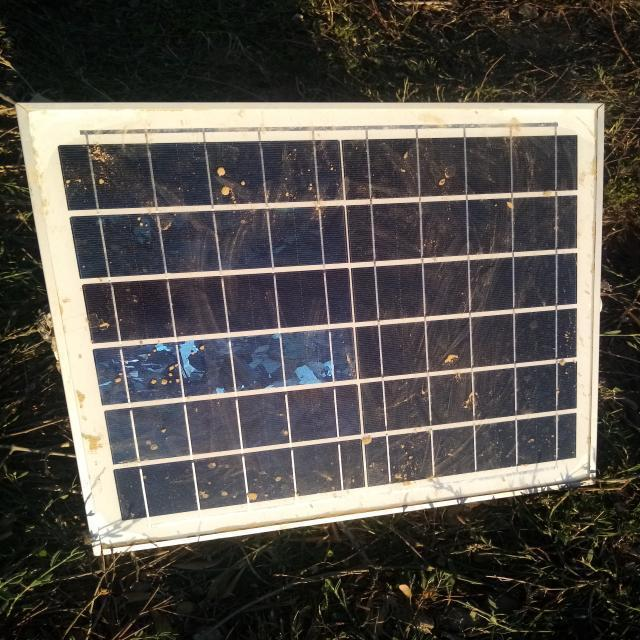Anomaly Solar Panel: (10, 106, 603, 546)
Surface Contaminant: (58, 113, 577, 509)
